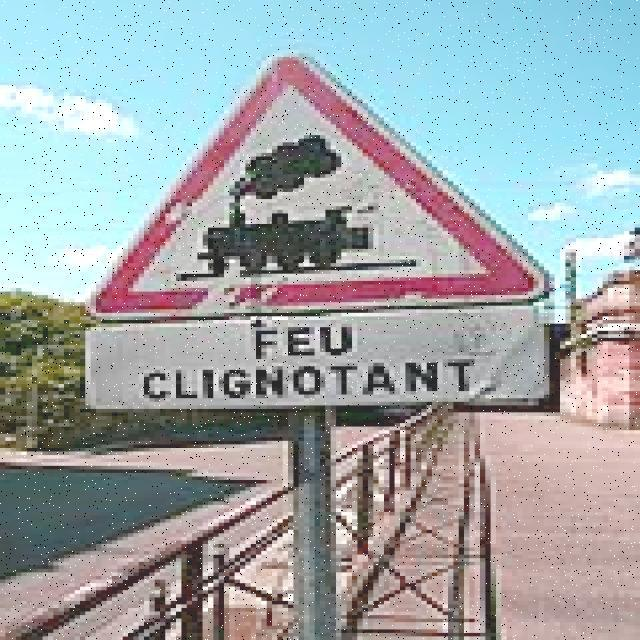Traffic sign: (73, 44, 566, 422)
